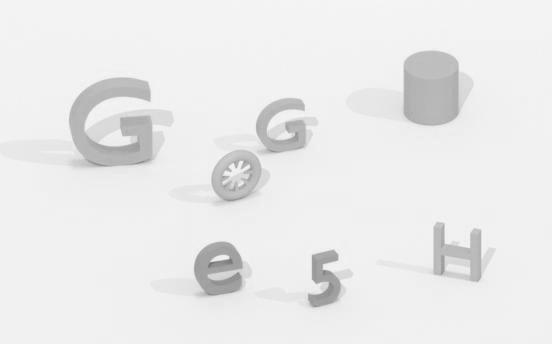chu_khoi: (69, 77, 152, 165), (433, 222, 481, 281), (256, 98, 306, 151), (194, 242, 242, 294)
da_giac: (211, 150, 261, 200)
so_khoi: (308, 250, 340, 306)
tru: (403, 51, 458, 124)
